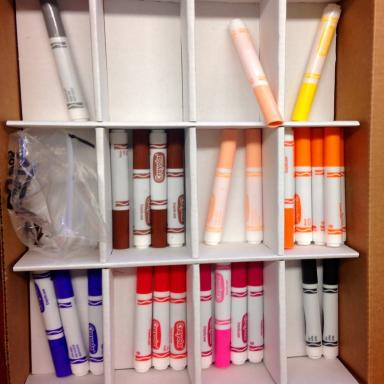plasticbag: (5, 128, 113, 261)
